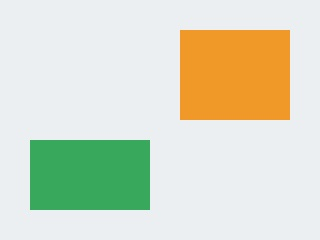rectangle: (181, 31, 290, 120), (31, 141, 150, 210)
